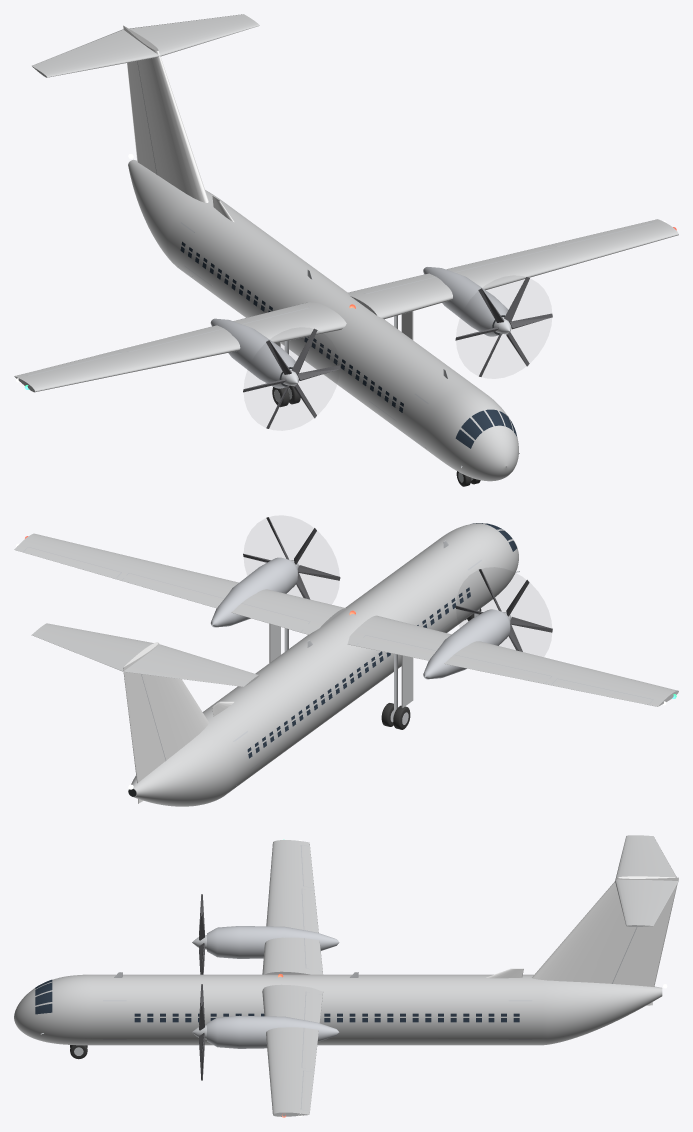
3 renders of one model, top to bottom at view 1: azimuth 30°, elevation 25°; view 2: azimuth 150°, elevation 25°; view 3: azimuth 270°, elevation 25°, orthographic. The views are drawn at different scales.
Parts seen in each view (by area): view 1: airframe, prop (×2), gear; view 2: airframe, gear, prop (×2); view 3: airframe.
Boxes of the visible parts, bbox=[...] form: airframe: bbox=[14, 14, 678, 481]; prop (×2): bbox=[243, 277, 552, 428]; gear: bbox=[272, 311, 480, 486]; airframe: bbox=[14, 523, 678, 806]; gear: bbox=[269, 608, 481, 729]; prop (×2): bbox=[243, 517, 552, 651]; airframe: bbox=[14, 835, 678, 1117].
Size of the model in its own units: 27.35 by 8.27 by 27.89.
